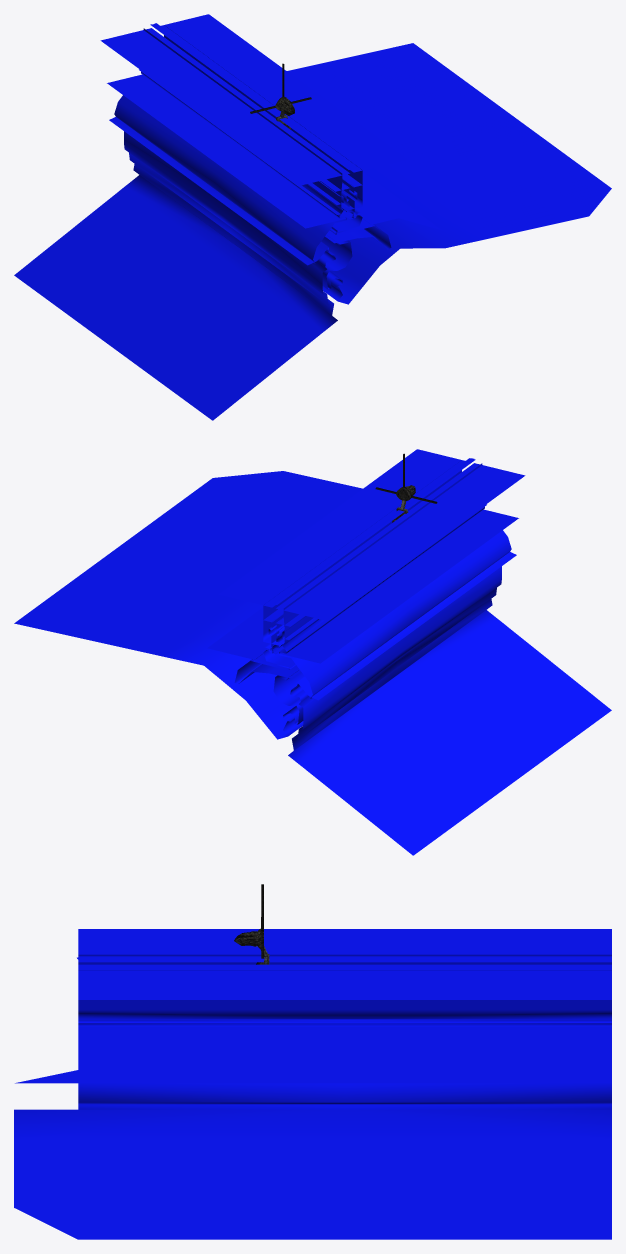
The picture shows the model from 3 angles, top to bottom: view 1: azimuth 30°, elevation 25°; view 2: azimuth 150°, elevation 25°; view 3: azimuth 270°, elevation 25°; orthographic projection. The views are drawn at different scales.
Visible parts, largest first — view 1: 3DSMesh_23; view 2: 3DSMesh_23; view 3: 3DSMesh_23.
Boxes of the visible parts, box(x1,y1,x2,y2) form: 3DSMesh_23: box(14, 14, 611, 420); 3DSMesh_23: box(14, 449, 611, 855); 3DSMesh_23: box(14, 929, 611, 1239).
Size of the model in its own units: 115031 by 75022 by 111102.
